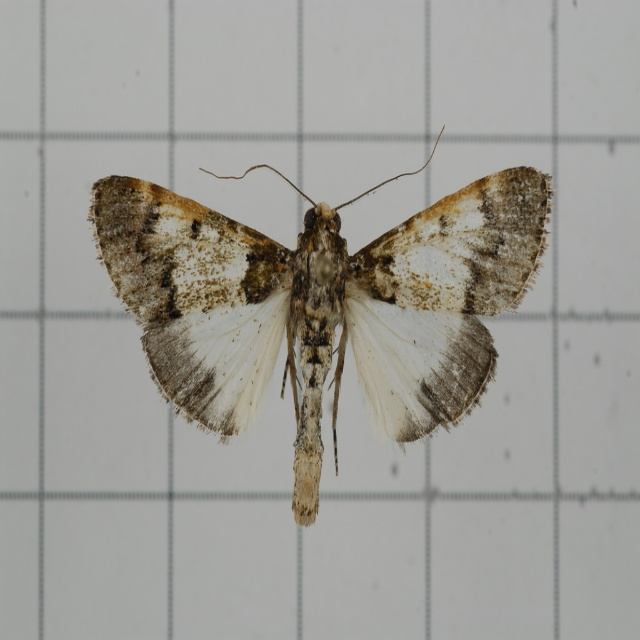Butterfly: (94, 133, 546, 530)
